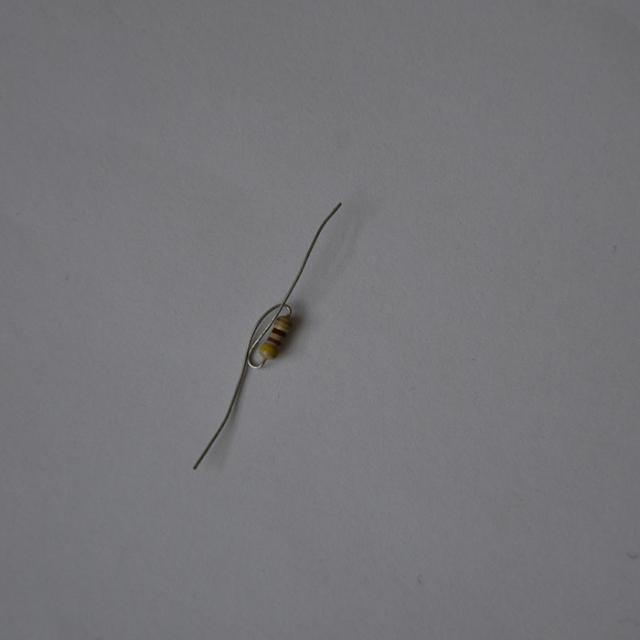brown: (270, 327, 286, 337)
gold: (275, 317, 292, 326)
resistor: (251, 310, 301, 368)
violet: (265, 336, 283, 347)
yellow: (260, 343, 277, 356)
